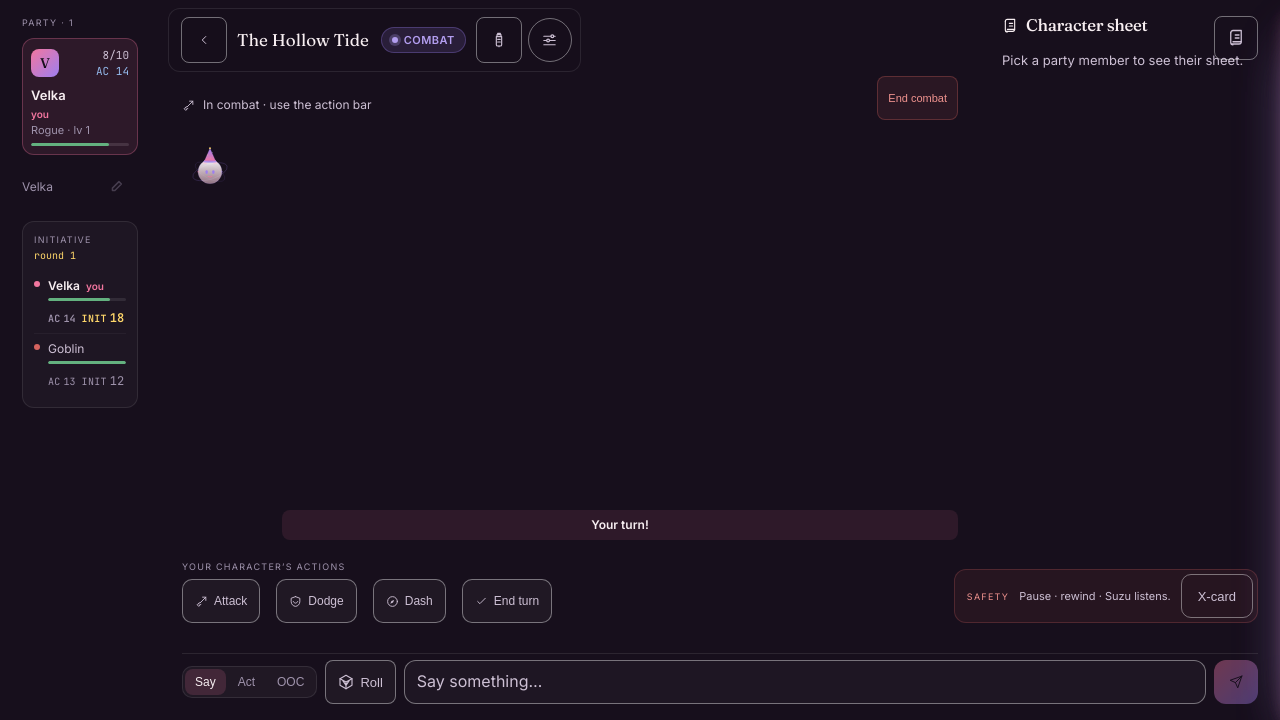
B3-1 — outcome chooser › clicking End opens the outcome chooser with 5 options
Expected: the text "The Hollow Tide" is shown, [237,27,369,53]
Click the button "End combat". click: (918, 98)
box: [877,76,958,120]
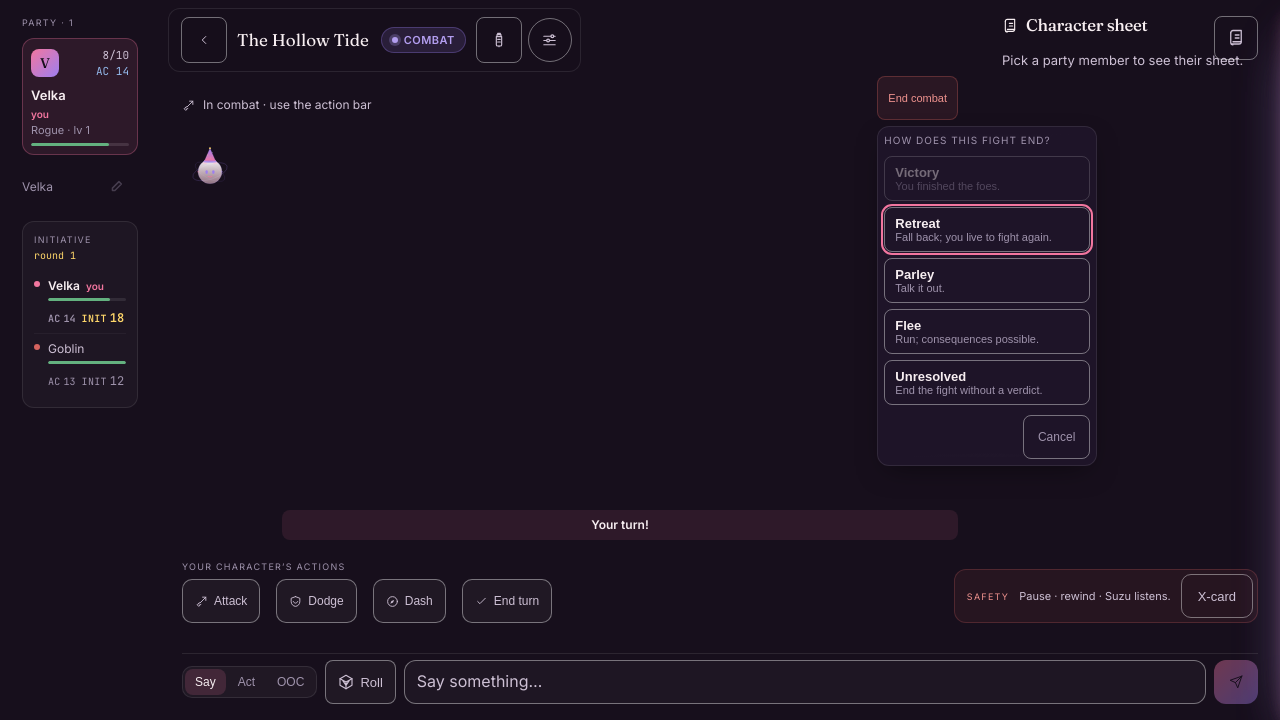
Now the button "Victory You finished the foes." is shown, box [884,156,1090,201]
Now the button "Retreat Fall back; you live to fight again." is shown, box [884,207,1090,252]
Now the button "Parley Talk it out." is shown, box [884,258,1090,303]
